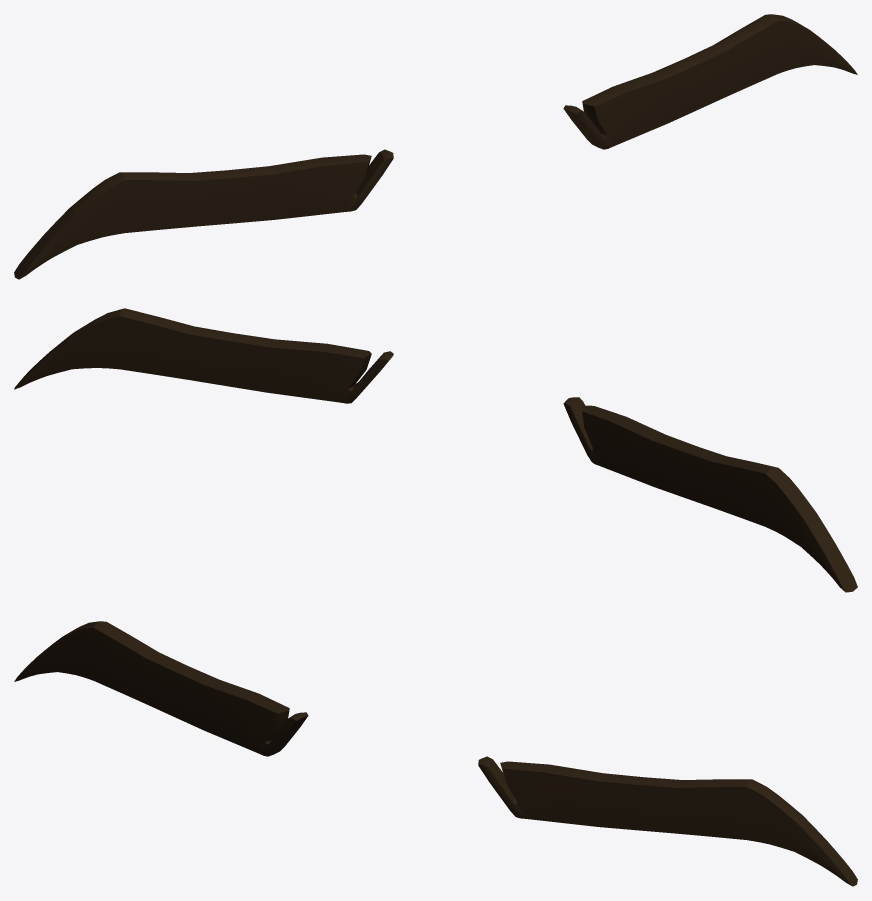
Rendered from eyebrows_innocent.glb.
The picture shows the model from 3 angles, top to bottom: view 1: azimuth 30°, elevation 25°; view 2: azimuth 150°, elevation 25°; view 3: azimuth 330°, elevation 25°; orthographic projection.
Visible parts, largest first — view 1: eyebrows_innocent; view 2: eyebrows_innocent; view 3: eyebrows_innocent.
Boxes of the visible parts, x1,y1,x2,y2 form: eyebrows_innocent: [14, 14, 857, 279]; eyebrows_innocent: [14, 308, 857, 592]; eyebrows_innocent: [14, 621, 857, 886].
Bounding box in the file's own units: 0.246 × 0.0257 × 0.0279.
